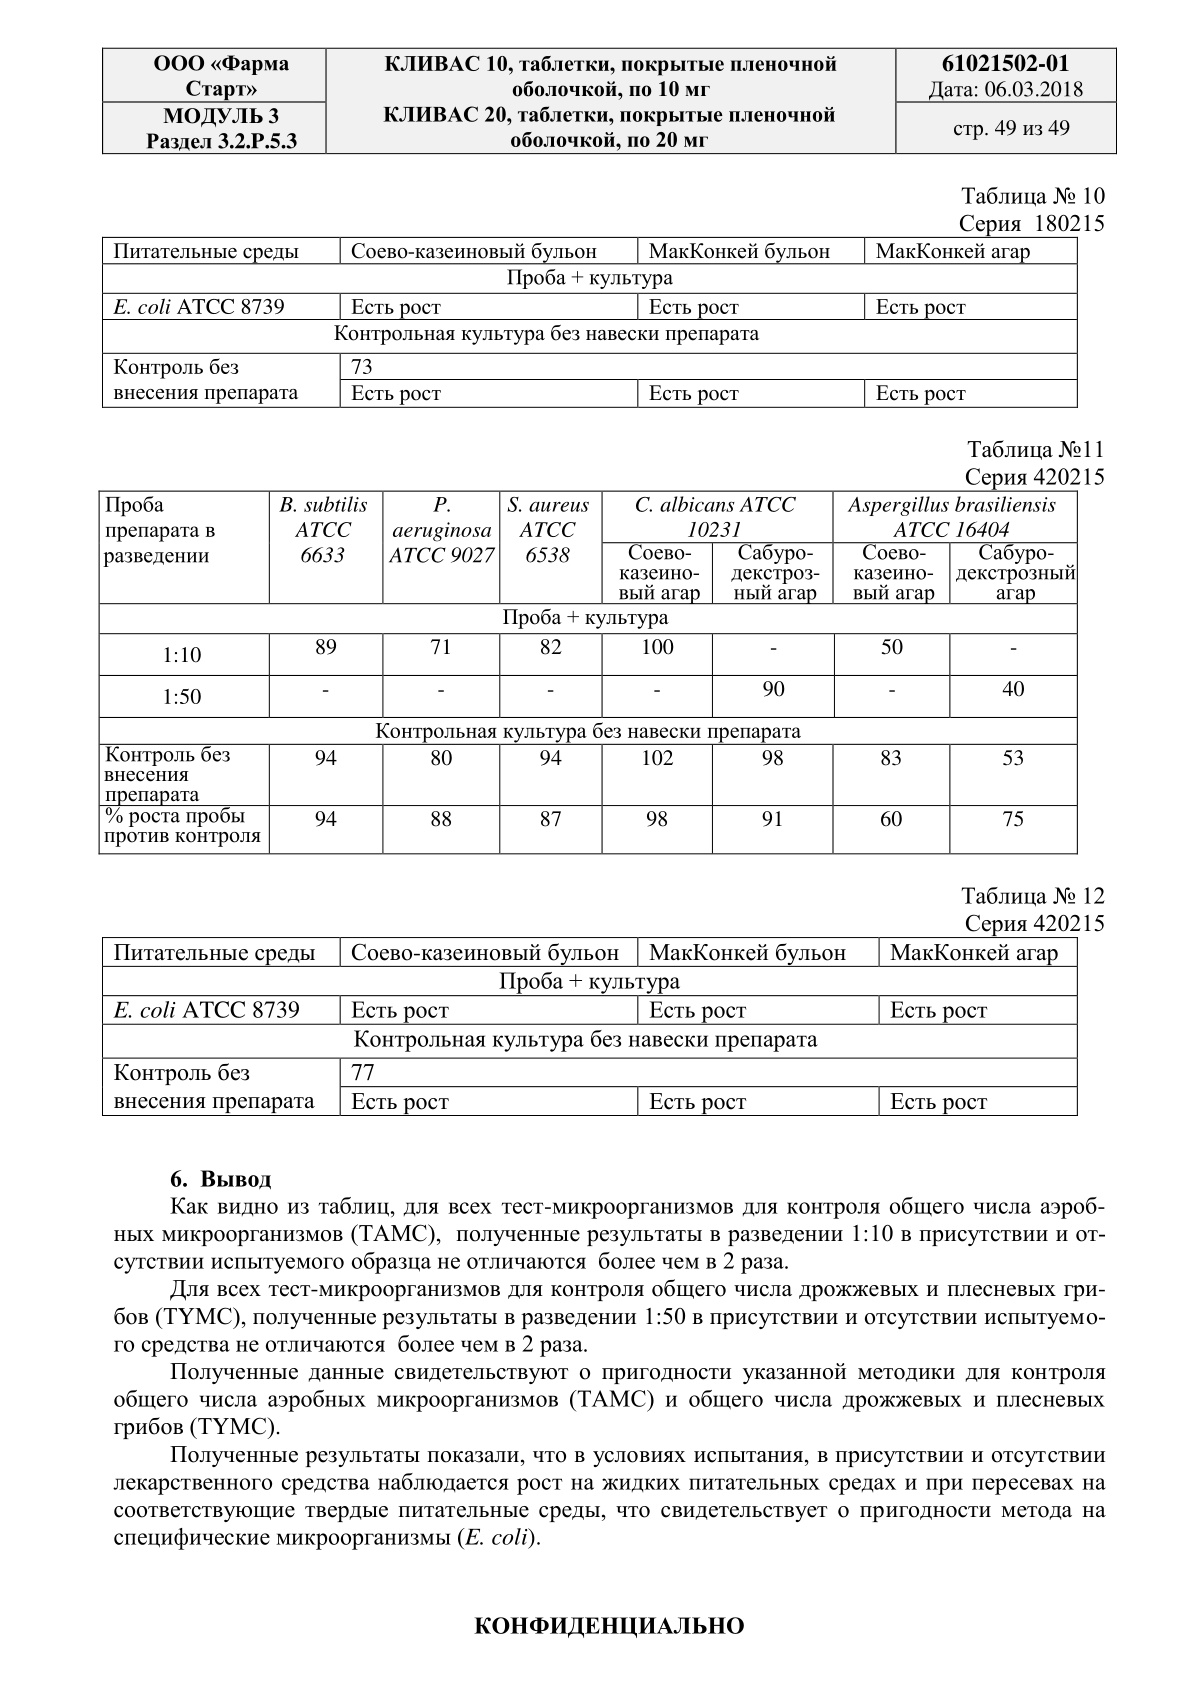merged_cells: (97, 489, 1078, 855), (101, 936, 1078, 1116), (101, 236, 1078, 409), (101, 46, 1118, 155)
